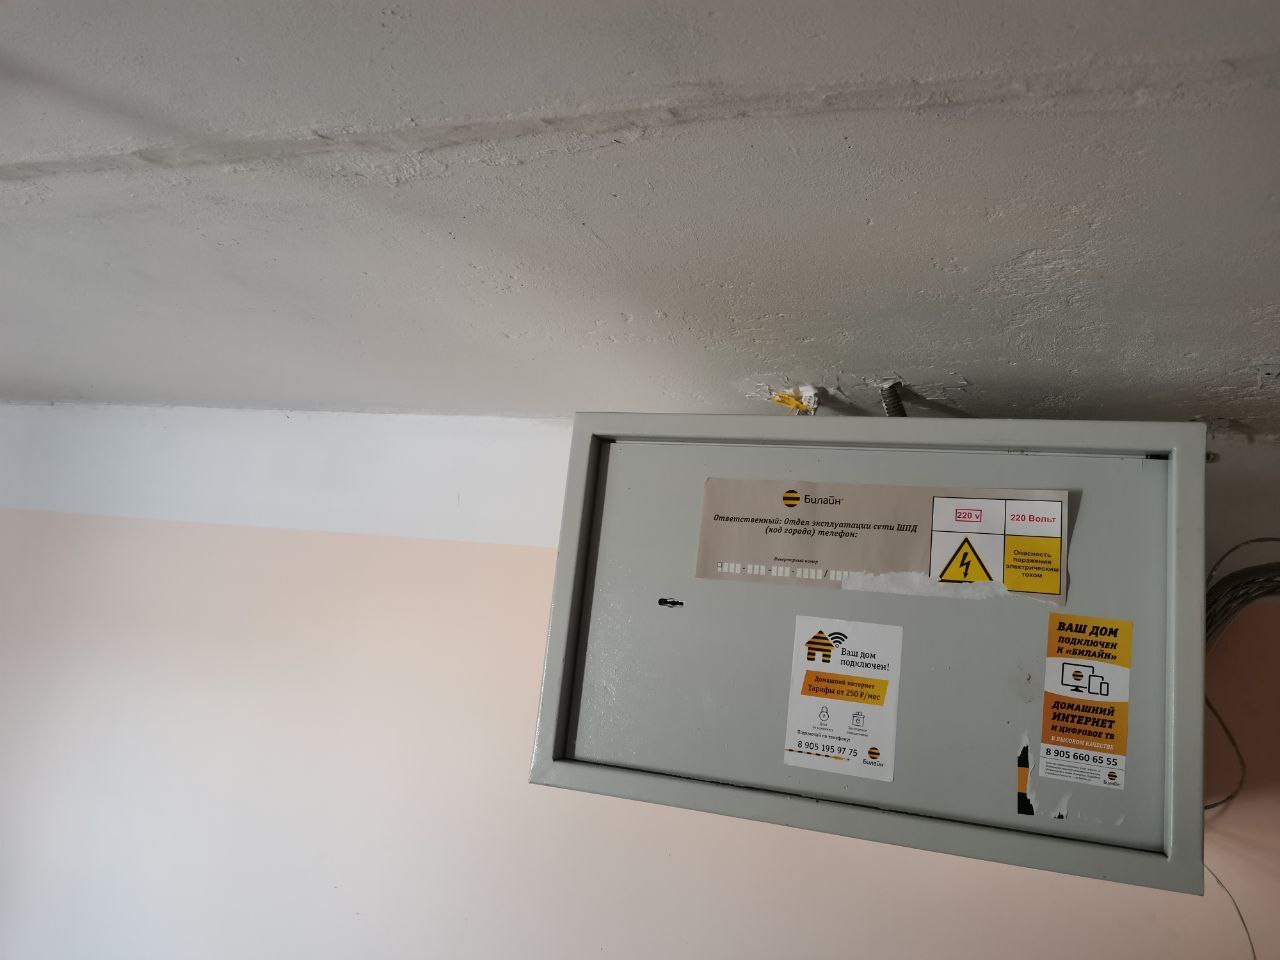shta-7m: (517, 395, 1225, 906)
